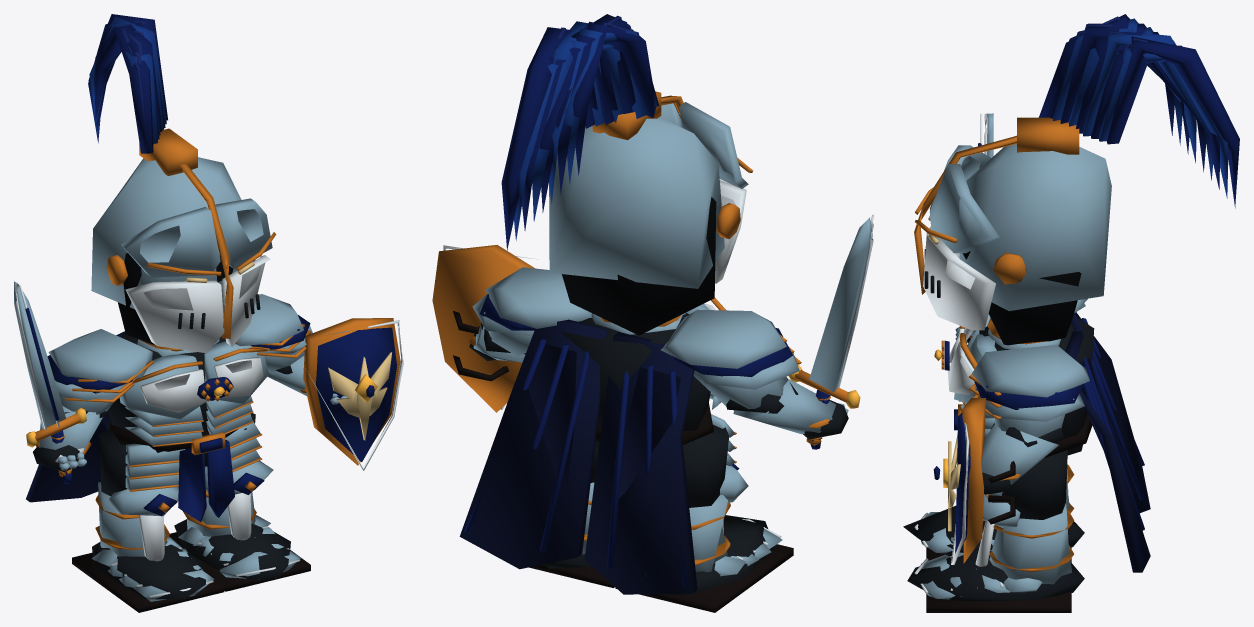
Rendered from knight.glb.
3 views of the same model, side by side, from view 1: azimuth 30°, elevation 25°; view 2: azimuth 150°, elevation 25°; view 3: azimuth 270°, elevation 25° (orthographic). The views are drawn at different scales.
Visible parts, largest first — view 1: Head_Geometry, Body_Geometry, Leg_R_Geometry, Weapon_Pistol_Geometry, Leg_L_Geometry, Arm_R_Geometry, Arm_L_Geometry, Weapon_Cutlass_Geometry; view 2: Head_Geometry, Body_Geometry, Arm_R_Geometry, Leg_R_Geometry, Weapon_Pistol_Geometry, Arm_L_Geometry, Weapon_Cutlass_Geometry, Leg_L_Geometry; view 3: Head_Geometry, Leg_L_Geometry, Body_Geometry, Arm_L_Geometry, Weapon_Pistol_Geometry, Leg_R_Geometry.
Boxes of the visible parts, box(x1,y1,x2,y2) form: Head_Geometry: box(88, 14, 276, 353); Body_Geometry: box(26, 331, 269, 521); Leg_R_Geometry: box(72, 428, 224, 612); Weapon_Pistol_Geometry: box(303, 318, 403, 470); Leg_L_Geometry: box(169, 413, 310, 591); Arm_R_Geometry: box(33, 329, 153, 472); Arm_L_Geometry: box(235, 294, 348, 404); Weapon_Cutlass_Geometry: box(14, 281, 86, 484); Head_Geometry: box(501, 14, 753, 335); Body_Geometry: box(459, 297, 736, 594); Arm_R_Geometry: box(661, 309, 848, 439); Leg_R_Geometry: box(615, 425, 793, 612); Weapon_Pistol_Geometry: box(432, 245, 539, 412); Arm_L_Geometry: box(468, 267, 591, 362); Weapon_Cutlass_Geometry: box(788, 214, 874, 449); Leg_L_Geometry: box(529, 447, 614, 587); Head_Geometry: box(914, 14, 1239, 345); Leg_L_Geometry: box(907, 450, 1084, 612); Body_Geometry: box(934, 312, 1150, 572); Arm_L_Geometry: box(968, 344, 1089, 494); Weapon_Pistol_Geometry: box(933, 395, 1015, 564); Leg_R_Geometry: box(903, 464, 1084, 561).
Size of the model in its own units: 2.5 by 3.2 by 1.79.
1 material, 1 textured.
